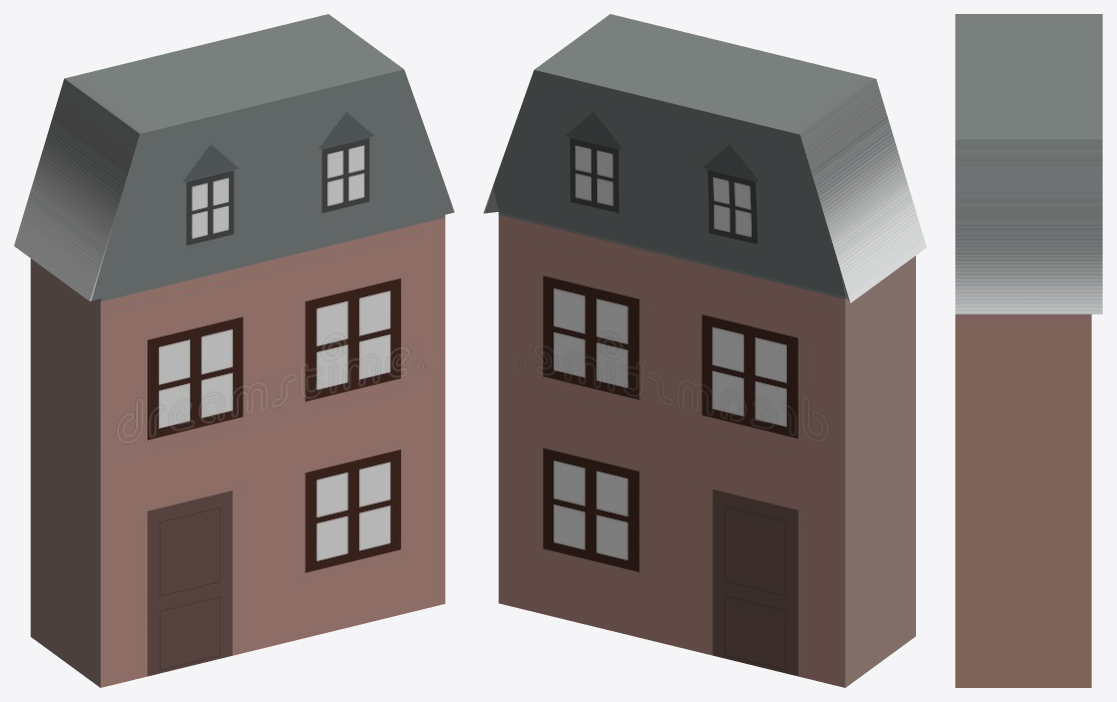
3 renders of one model, left to right at view 1: azimuth 30°, elevation 25°; view 2: azimuth 150°, elevation 25°; view 3: azimuth 270°, elevation 25°, orthographic. The views are drawn at different scales.
Parts seen in each view (by area): view 1: city-town-house-vector-facade-face-side-street-view-city-mod; view 2: city-town-house-vector-facade-face-side-street-view-city-mod; view 3: city-town-house-vector-facade-face-side-street-view-city-mod.
Boxes of the visible parts, x1,y1,x2,y2 form: city-town-house-vector-facade-face-side-street-view-city-mod: (14,14,454,687); city-town-house-vector-facade-face-side-street-view-city-mod: (483,14,926,687); city-town-house-vector-facade-face-side-street-view-city-mod: (955,14,1102,687).
Bounding box in the file's own units: 45.82 × 65.27 × 16.46.
